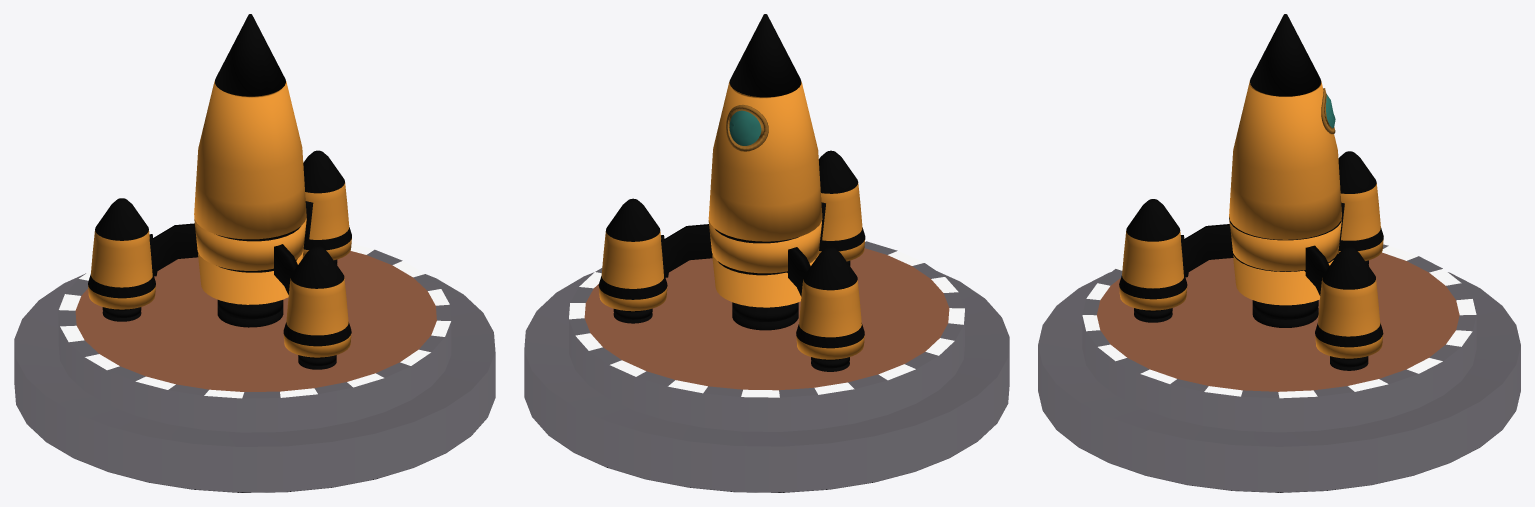
The model's file is rocket.glb.
3 renders of one model, left to right at view 1: azimuth 30°, elevation 25°; view 2: azimuth 150°, elevation 25°; view 3: azimuth 270°, elevation 25°, orthographic.
Visible parts, largest first — view 1: rocketBase, rocketBody, Engine2, Engine3, Engine1, enginSupport3, enginSupport2; view 2: rocketBase, rocketBody, Engine3, Engine1, Engine2, enginSupport1, windowGlass, window, enginSupport3; view 3: rocketBase, rocketBody, Engine1, Engine2, Engine3, enginSupport2, enginSupport1.
Boxes of the visible parts, bbox=[...] form: rocketBase: bbox=[14, 243, 495, 492]; rocketBody: bbox=[194, 14, 306, 327]; Engine2: bbox=[283, 246, 351, 369]; Engine3: bbox=[88, 198, 155, 321]; Engine1: bbox=[302, 150, 351, 264]; enginSupport3: bbox=[149, 223, 198, 276]; enginSupport2: bbox=[274, 244, 297, 294]; rocketBase: bbox=[524, 241, 1009, 492]; rocketBody: bbox=[708, 14, 822, 330]; Engine3: bbox=[796, 247, 864, 371]; Engine1: bbox=[598, 198, 667, 323]; Engine2: bbox=[818, 150, 865, 265]; enginSupport1: bbox=[661, 224, 712, 277]; windowGlass: bbox=[729, 110, 761, 145]; window: bbox=[726, 105, 768, 151]; enginSupport3: bbox=[786, 247, 810, 296]; rocketBase: bbox=[1038, 244, 1520, 492]; rocketBody: bbox=[1229, 14, 1341, 327]; Engine1: bbox=[1315, 247, 1383, 370]; Engine2: bbox=[1119, 199, 1187, 322]; Engine3: bbox=[1338, 151, 1383, 265]; enginSupport2: bbox=[1180, 224, 1233, 277]; enginSupport1: bbox=[1304, 245, 1329, 295].
Bounding box in the file's own units: 9.74 × 8.35 × 9.74.
